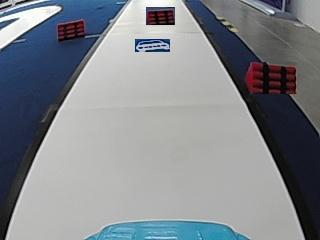bomb: (56, 18, 85, 39)
